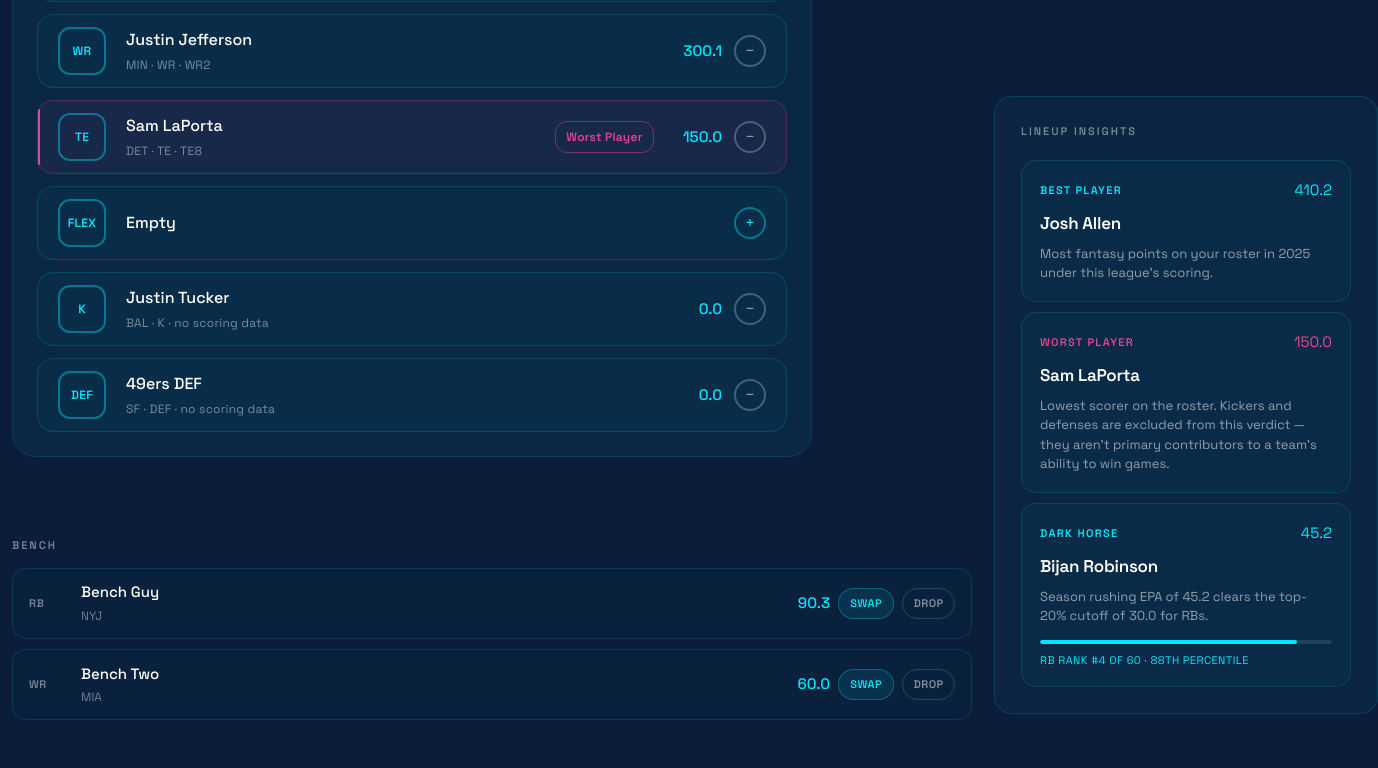
Test: ViewLineupPanel › loading, error, and insights refresh › hides verdict badges while insights refresh and ignores a stale insights response
(page scrolled)
Click the button "DROP" in the row of "60.0" at [929, 684], box [902,669,955,700]
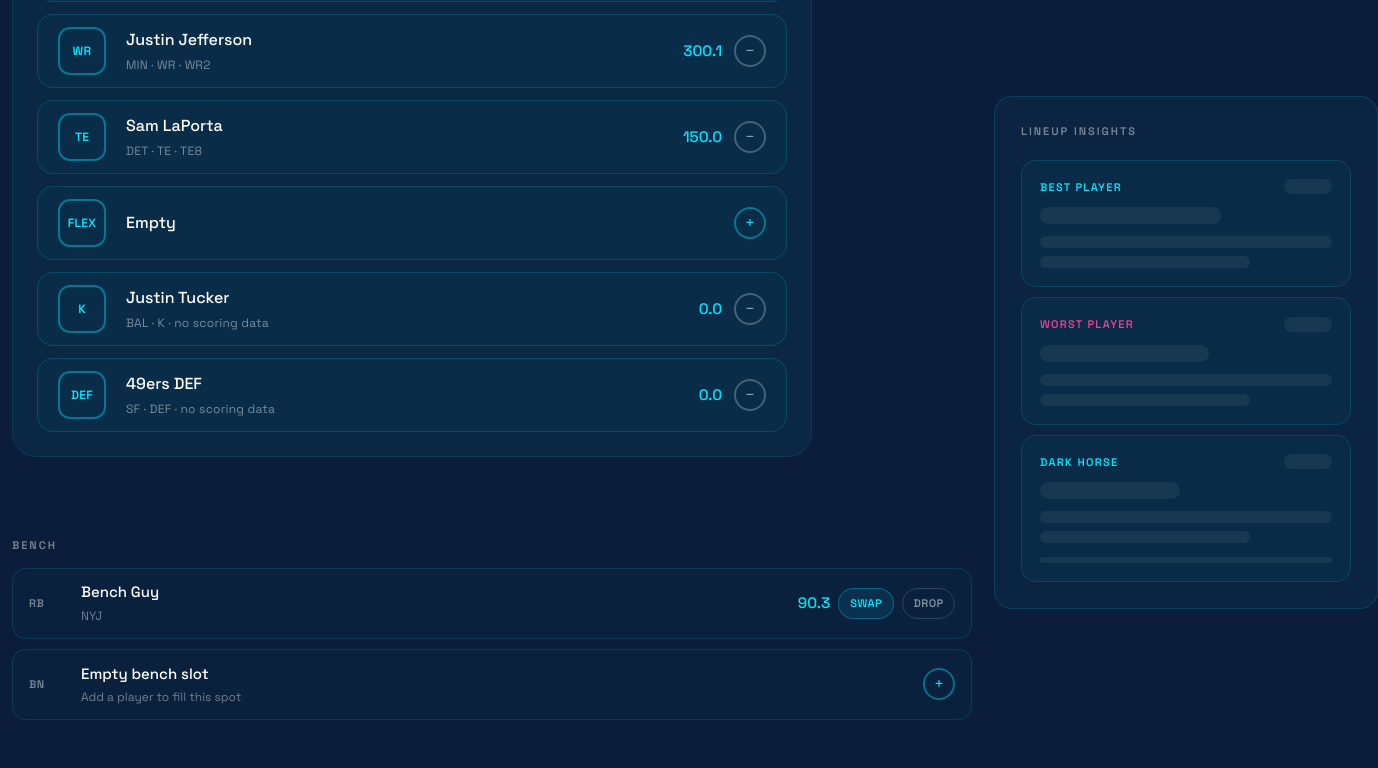
Expected: the number of buttons "DROP" is 1
Click the button "DROP" at [929, 603], box [902,588,955,619]
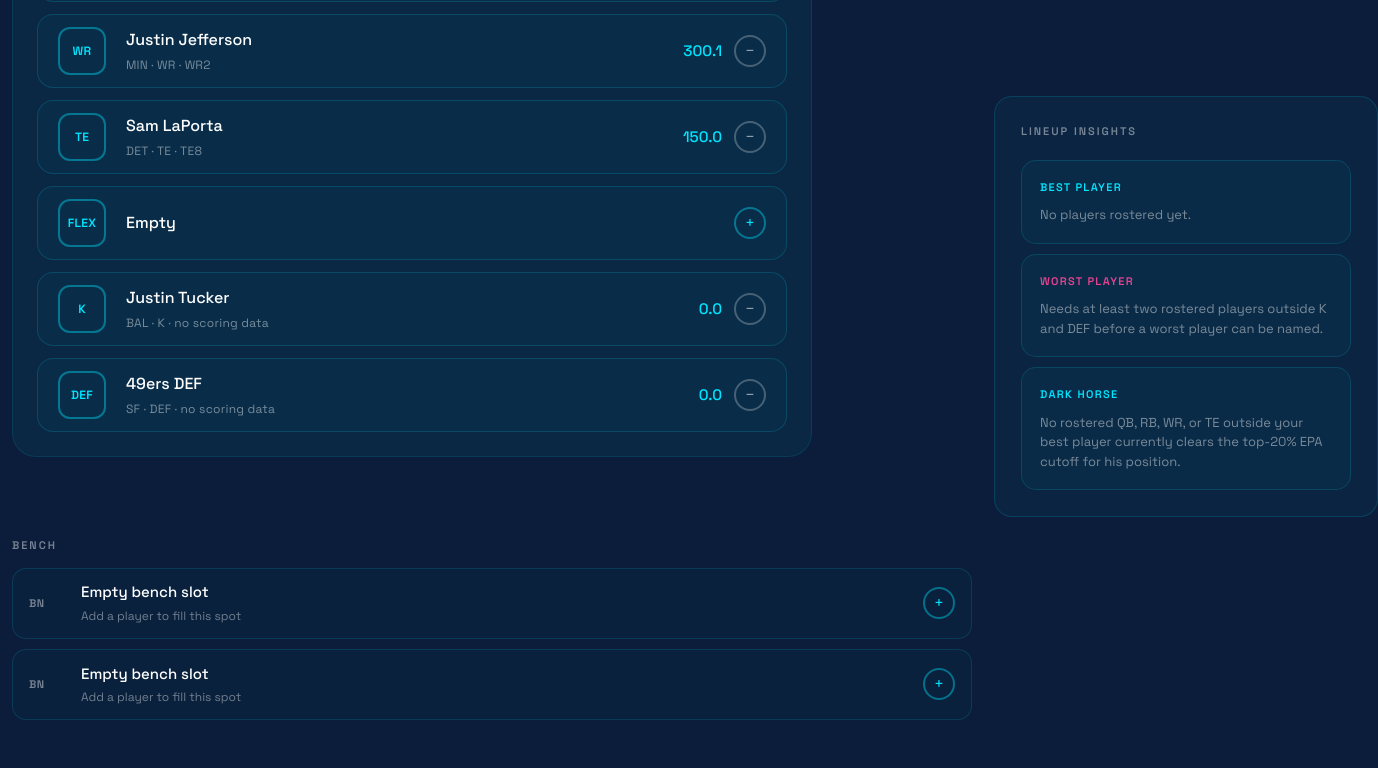
Expected: the text "No players rostered yet." is shown, [1040,206,1191,223]
